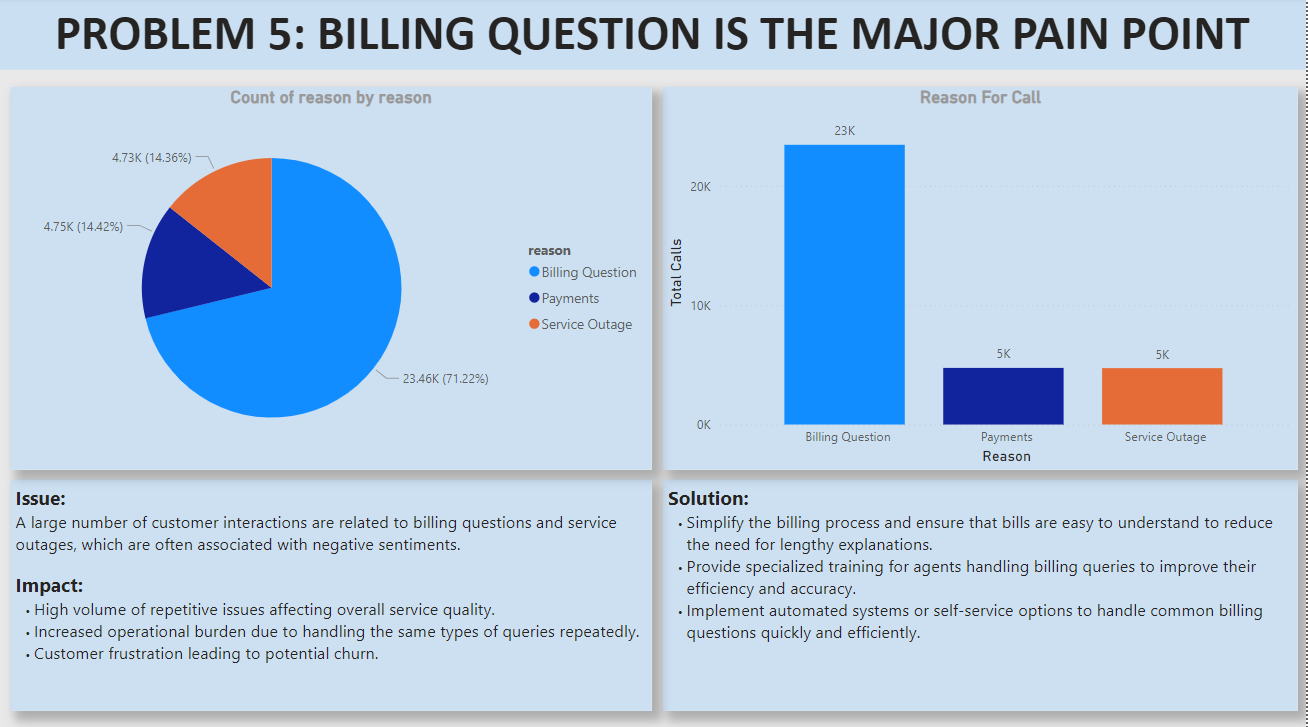

The dashboard page shown, as its layout file describes it:
{"tool":"powerbi","page":{"name":"Problem 5","canvas":[1280,720],"ordinal":5},"visuals":[{"type":"textbox","box":[0,0,1280.3,70.9],"z":0},{"type":"pieChart","fields":{"Y":["CountNonNull(Hospitality call center data.reason)"],"Category":["Hospitality call center data.reason"]},"box":[12.2,88,627.3,374.2],"z":1},{"type":"clusteredColumnChart","title":"Reason For Call","fields":{"Category":["Hospitality call center data.reason"],"Y":["CountNonNull(Hospitality call center data.reason)"]},"box":[650.5,88,621.2,374.2],"z":2},{"type":"textbox","box":[12.2,472,627.3,226.2],"z":3},{"type":"textbox","box":[650.5,472,621.2,226.2],"z":4}]}

Visuals, with their boxes in screenshot pixels (x1, y1, x2, y2), scaled from the page's 1280x720 canvas onto the 1308x727 screenshot:
textbox: <bbox>0, 0, 1307, 72</bbox>
pieChart - CountNonNull(Hospitality call center data.reason) x Hospitality call center data.reason: <bbox>12, 89, 653, 467</bbox>
"Reason For Call" clusteredColumnChart: <bbox>665, 89, 1300, 467</bbox>
textbox: <bbox>12, 477, 653, 705</bbox>
textbox: <bbox>665, 477, 1300, 705</bbox>
